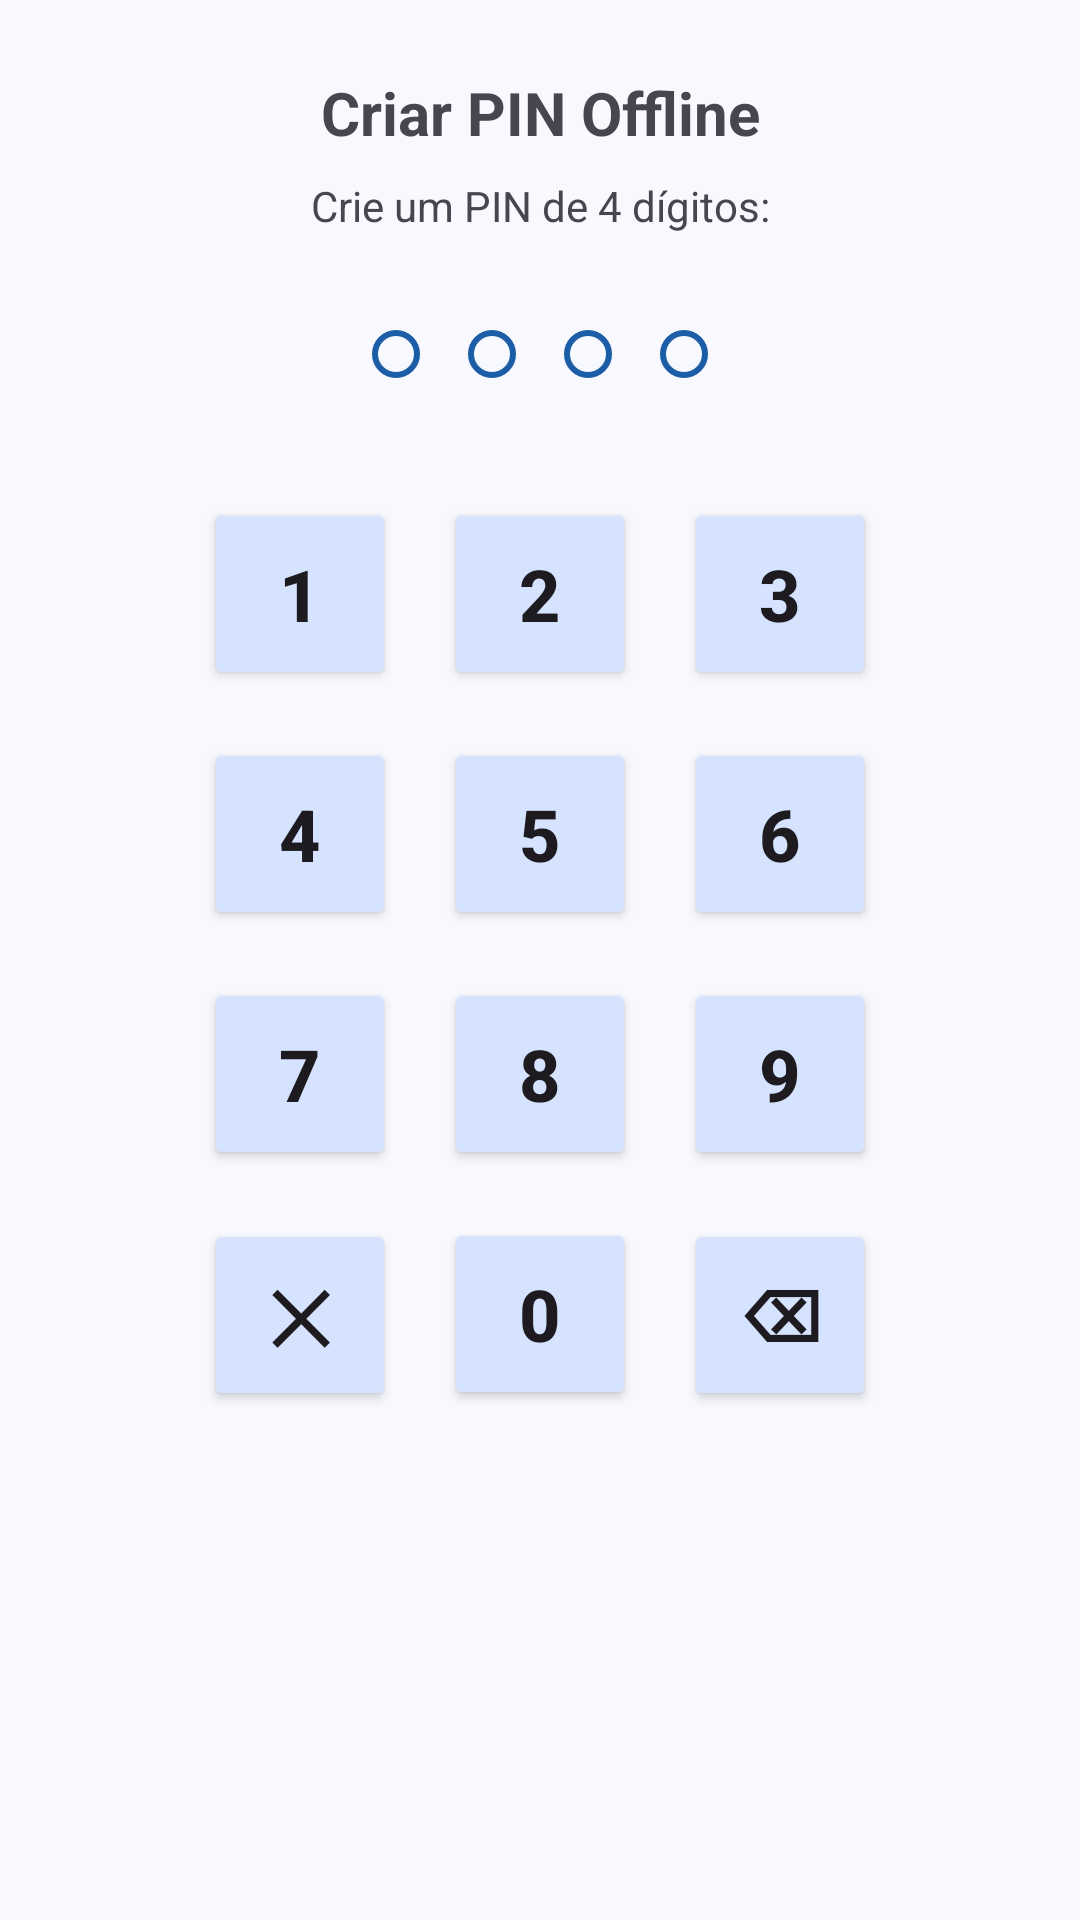

Where to tap for icons on this 1080 x 1920 app screen, as (x=x, y=y):
pin dot: (x=396, y=354), (x=492, y=354), (x=588, y=354), (x=684, y=354)
